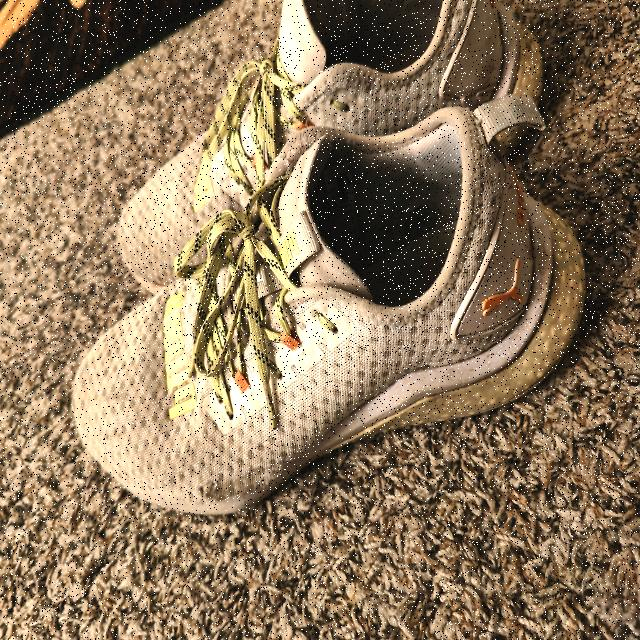white shoes: (80, 1, 587, 514)
